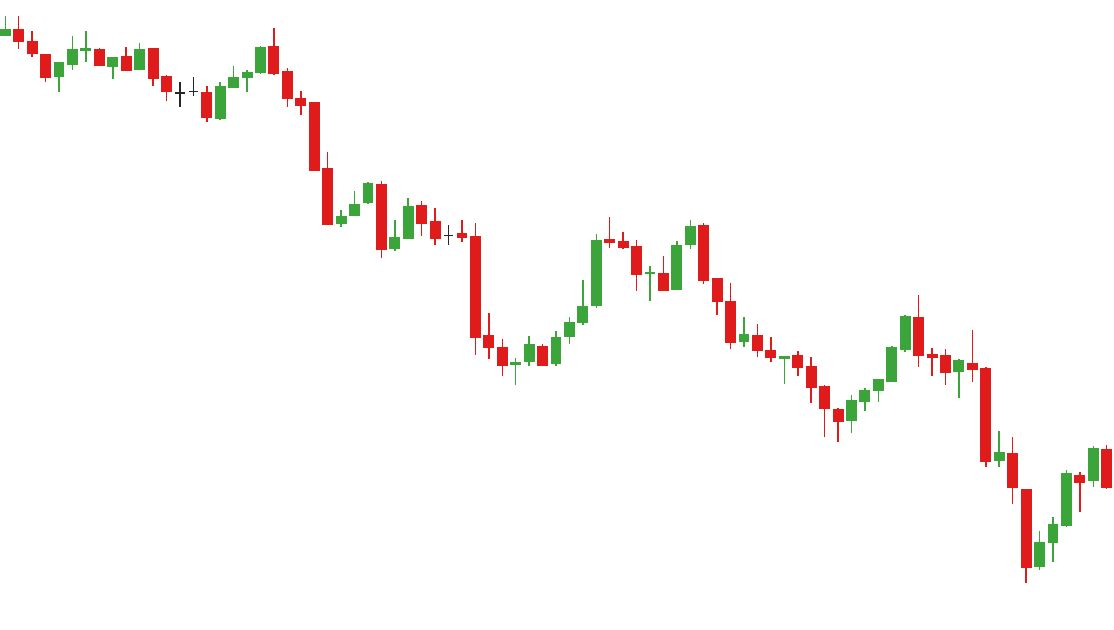sell: (135, 29, 280, 106)
